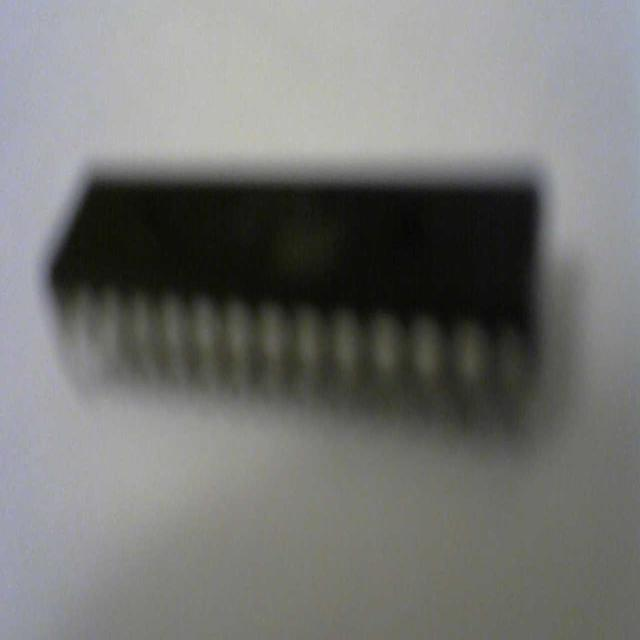atmega: (45, 157, 552, 442)
